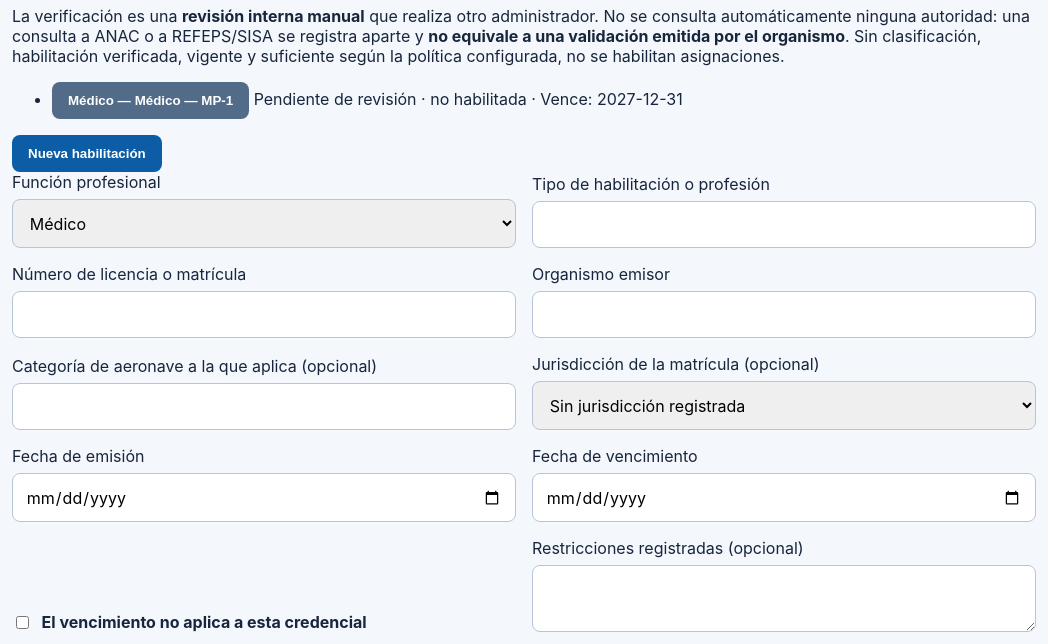
administrative, documentary and operational eligibility states are shown separately
This screenshot has width=1048, height=644.
Click the button "Médico — Médico — MP-1" at (151, 100), box [52,82,249,119]
(page scrolled)
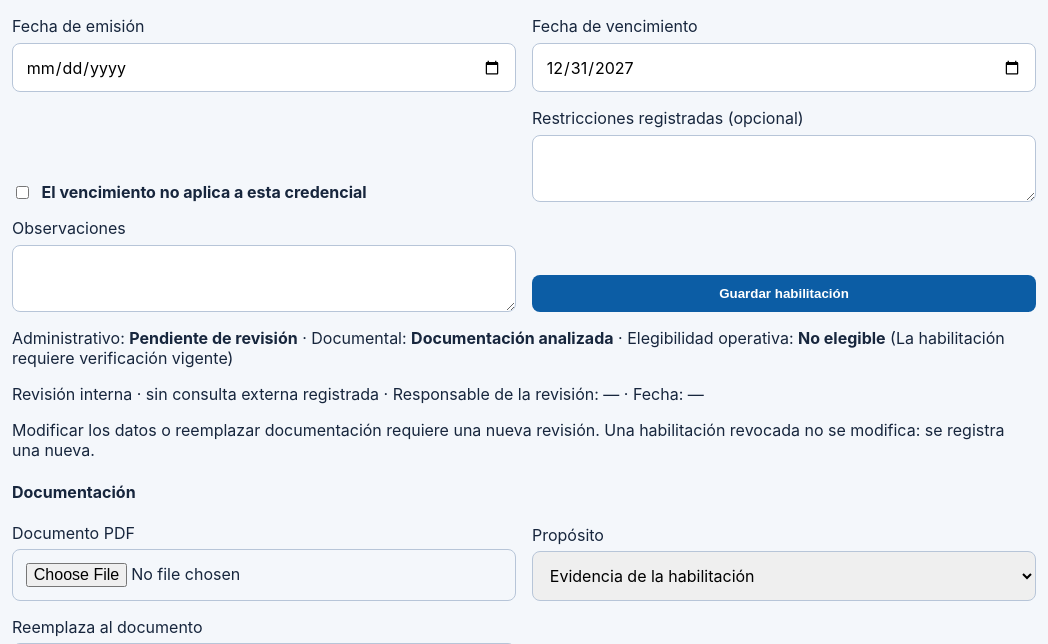
Expected: the text "Administrativo:" shows "Administrativo: Pendiente de revisión", [12,328,1036,368]
Expected: the text "Administrativo:" shows "Documental: Documentación analizada", [12,328,1036,368]
Expected: the text "Administrativo:" shows "Elegibilidad operativa: No elegible (La habilitación requiere verificación vigente)", [12,328,1036,368]
